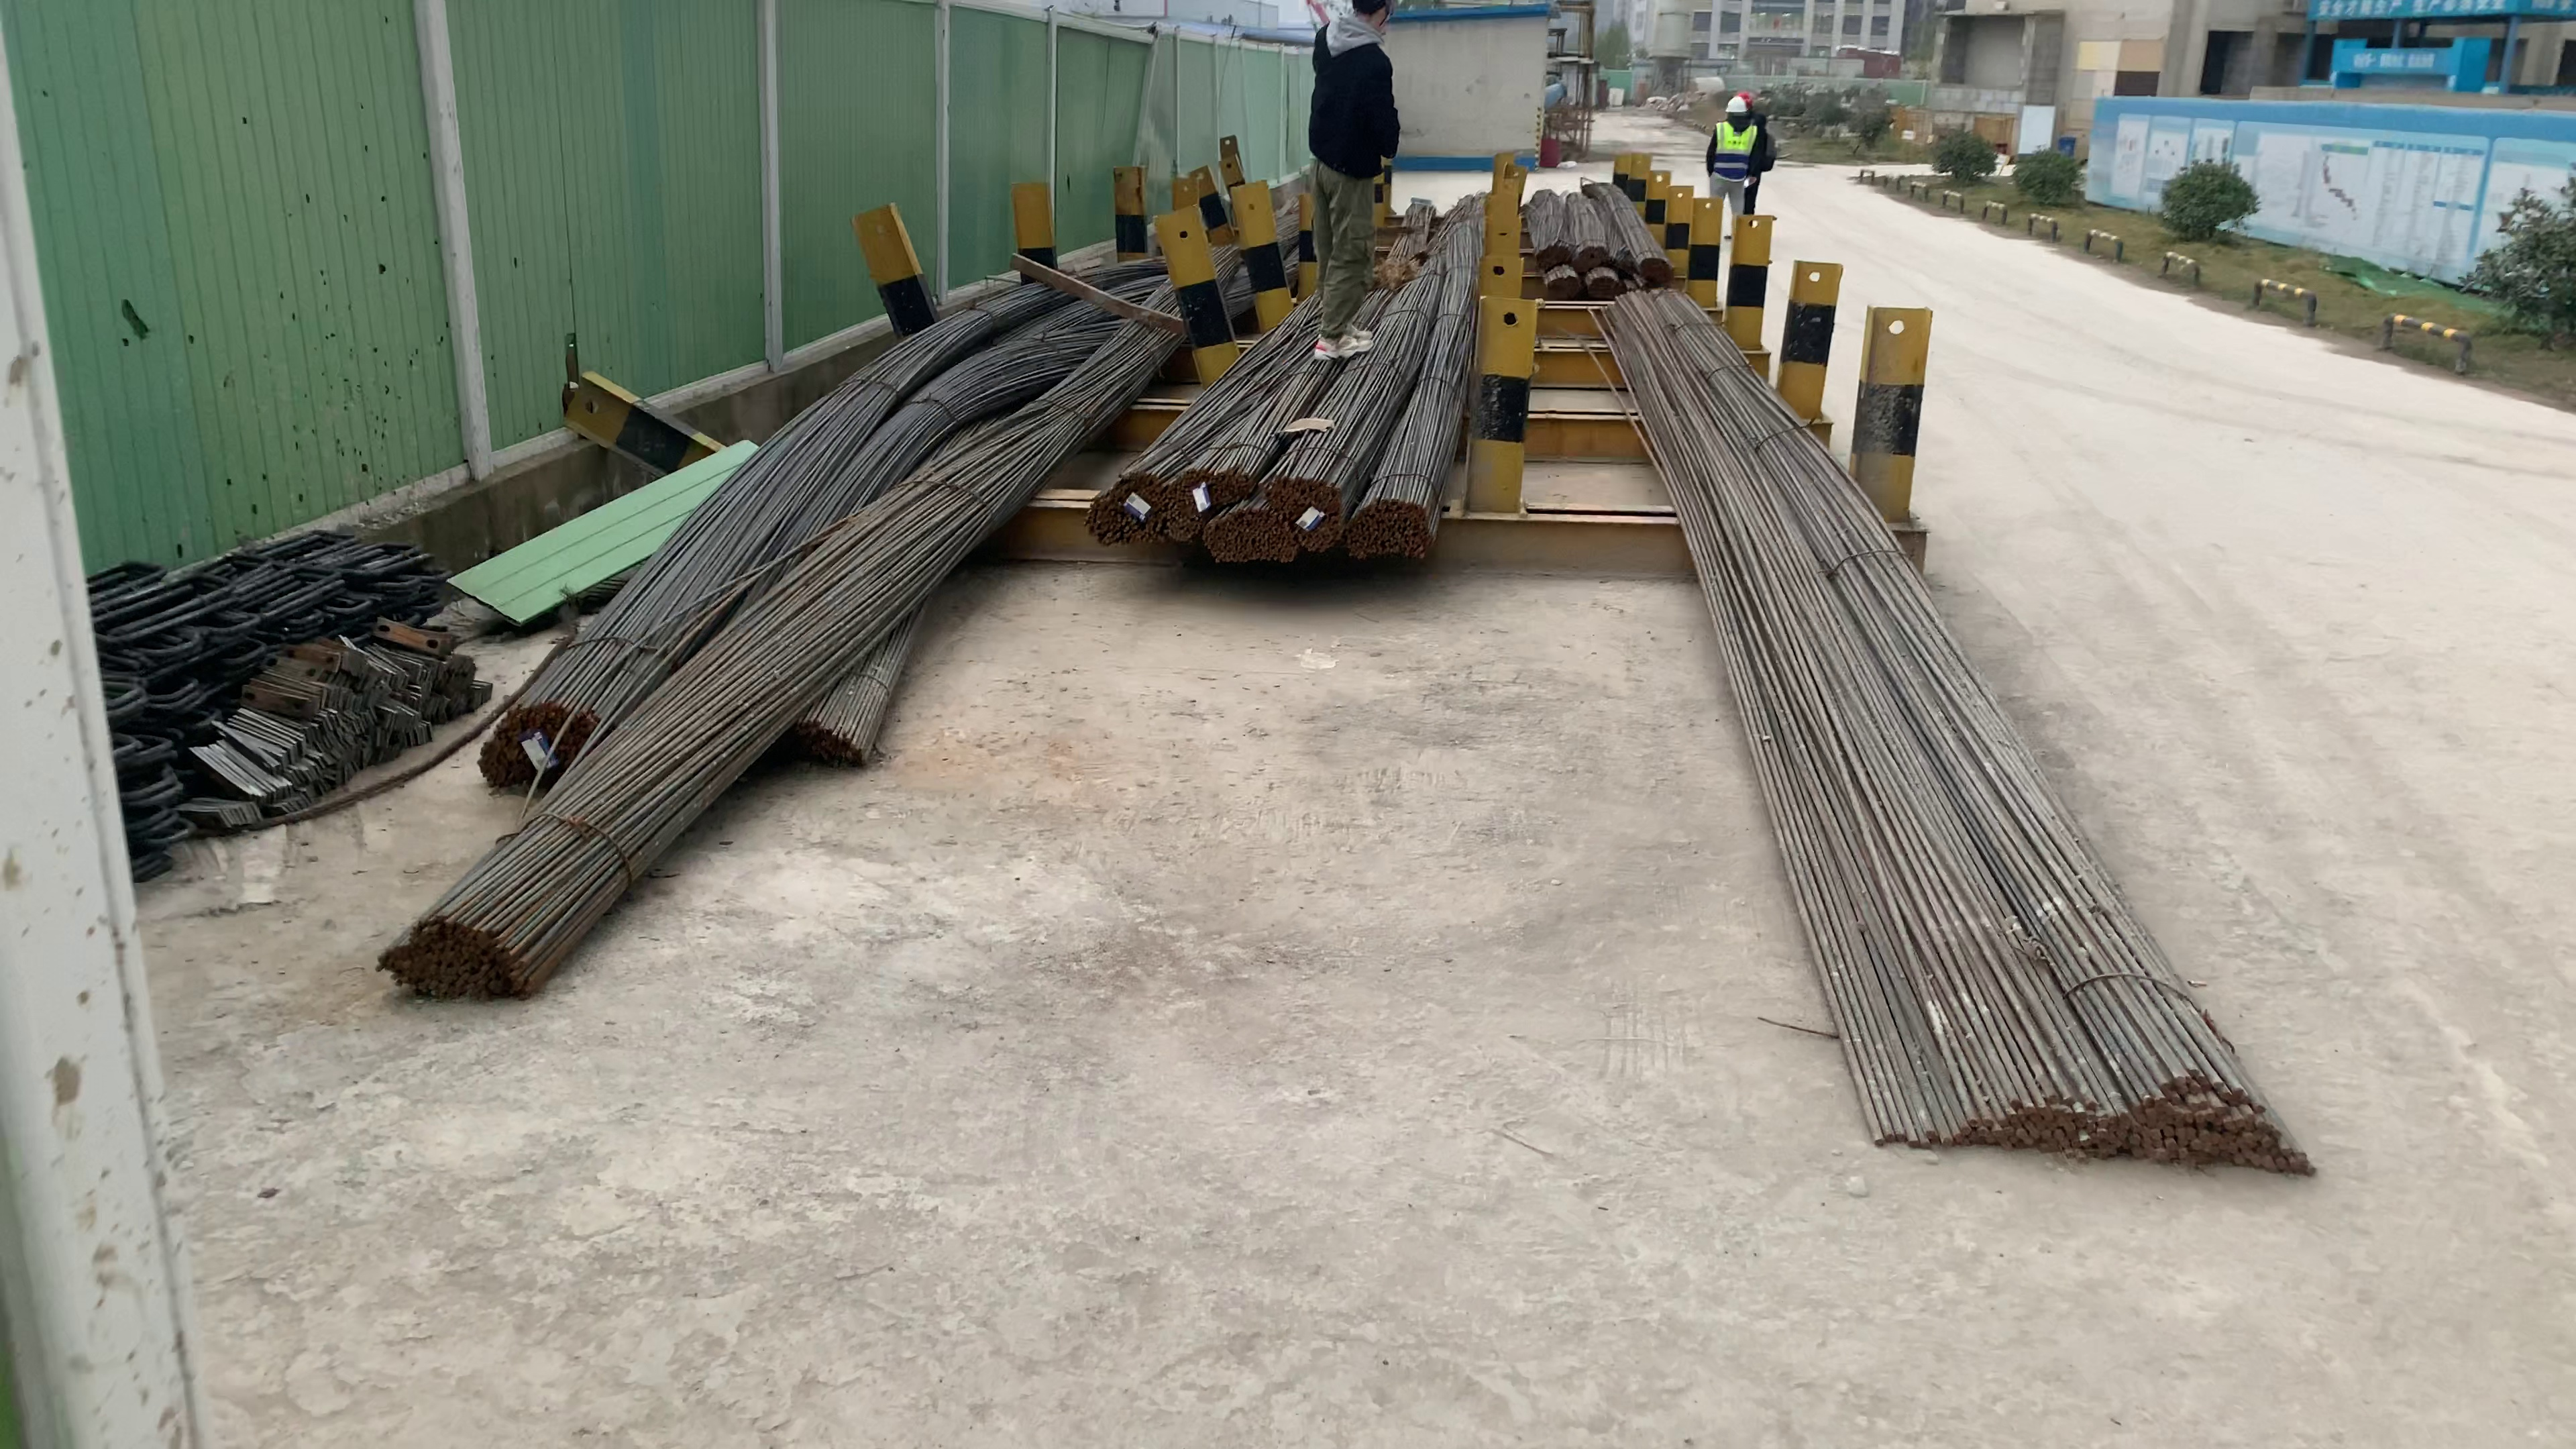rebar: (1863, 1069, 2323, 1182), (384, 908, 531, 1003), (474, 699, 586, 786), (768, 709, 870, 771), (1164, 464, 1242, 545), (1085, 469, 1166, 545), (1265, 467, 1338, 550), (1346, 502, 1431, 561), (1212, 511, 1288, 561), (1576, 242, 1612, 265), (1645, 257, 1675, 281), (1587, 271, 1619, 294), (1546, 272, 1582, 292), (1532, 242, 1562, 262)
